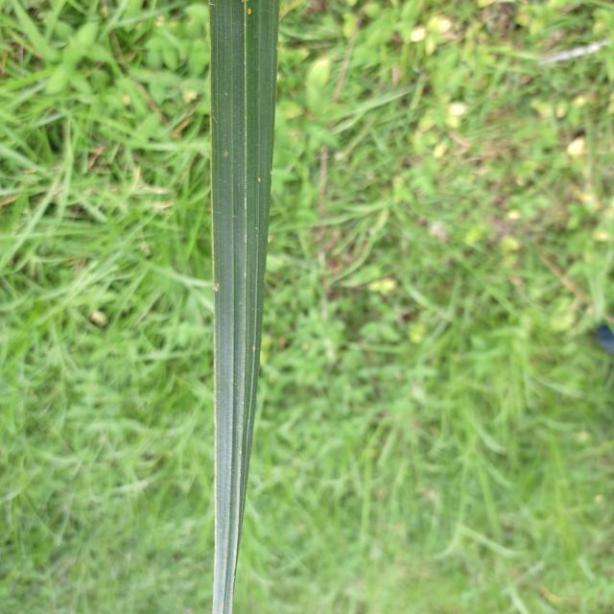Boron: (207, 1, 281, 614)
